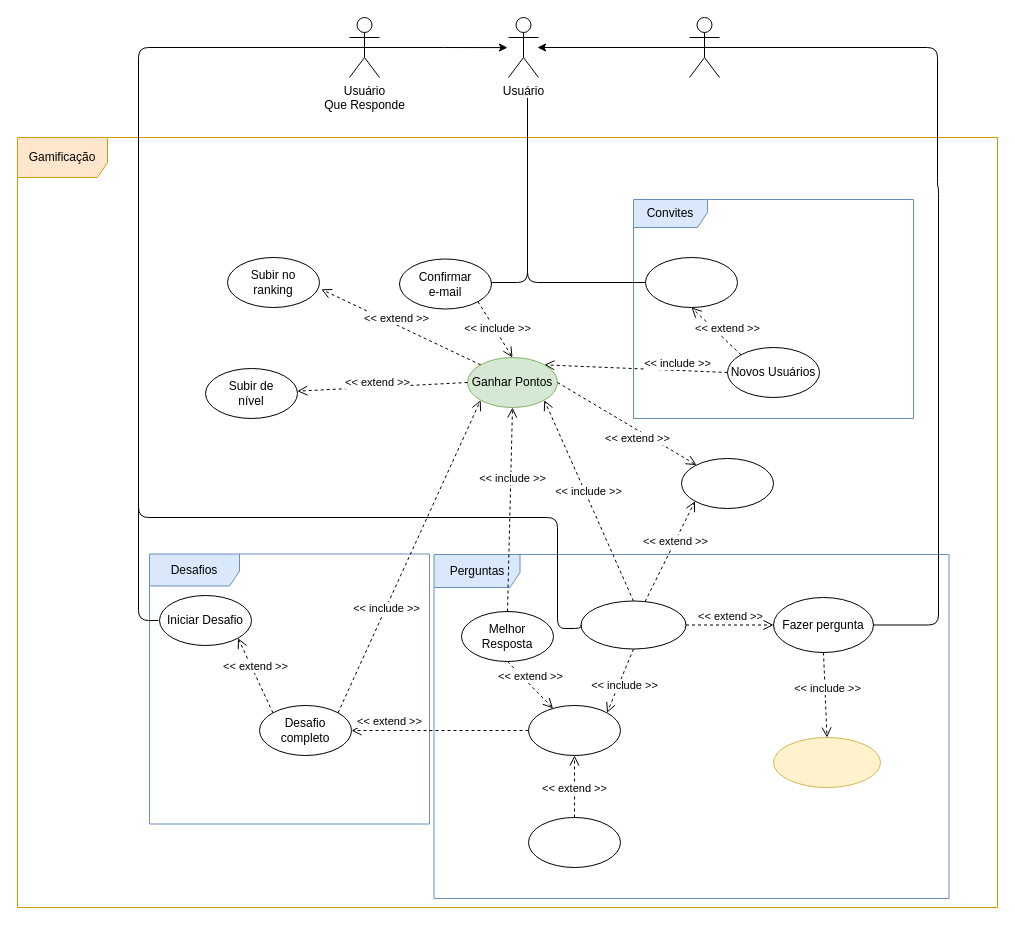
The diagram is 1015 pixels wide and 925 high, and some of its shapes have lost their labels. The shapes that lost their labels are listed below. From the top down, each one's centre as x and y in pixels, then its label:
At (704,47): "Usuário que Pergunta".
At (691,282): "Convidar amigos".
At (727,483): "Ganhar emblemas".
At (633,624): "Responder pergunta".
At (574,730): "Pergunta Respondida".
At (826,762): "Gastar pontos".
At (574,842): "Comentários".
